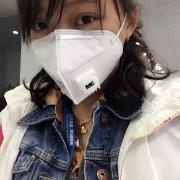OK: (25, 5, 129, 109)
